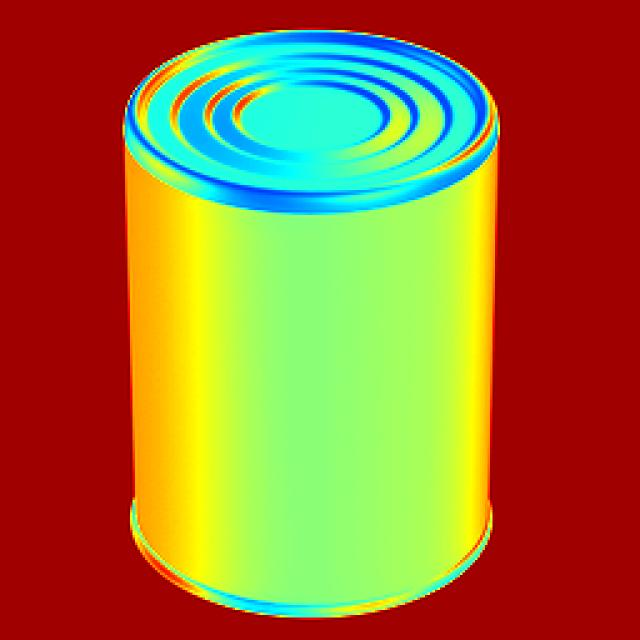Aluminium Food Cans: (102, 4, 556, 629)
